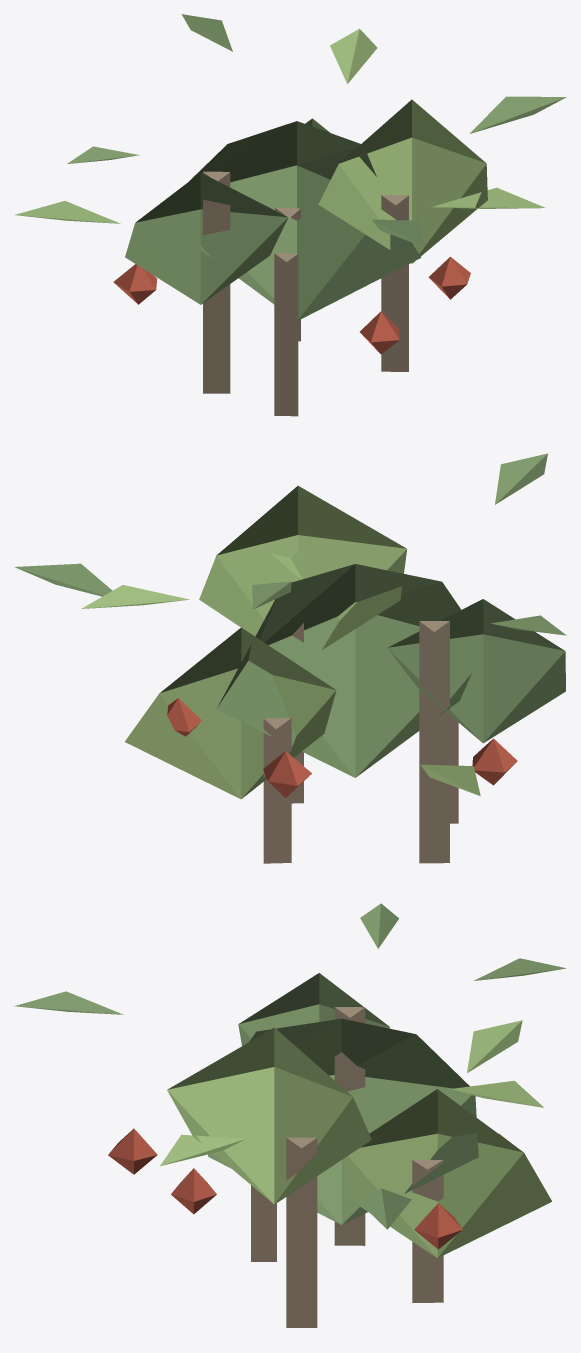
File: guan.moli@fruiting__spring.glb
3 views of the same model, one above another, from view 1: azimuth 30°, elevation 25°; view 2: azimuth 150°, elevation 25°; view 3: azimuth 270°, elevation 25° (orthographic). The views are drawn at different scales.
Visible parts, largest first — view 1: guan.moli@fruiting__spring; view 2: guan.moli@fruiting__spring; view 3: guan.moli@fruiting__spring.
Part boxes in pixels (x1,y1,x2,y2): guan.moli@fruiting__spring: (15,14,566,416); guan.moli@fruiting__spring: (14,453,566,863); guan.moli@fruiting__spring: (14,903,565,1327).
Bounding box in the file's own units: 2.34 × 1.31 × 2.06.
